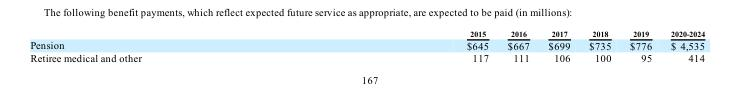table: (29, 29, 704, 63)
table column: (29, 29, 303, 63), (303, 29, 497, 63), (660, 29, 704, 63), (497, 29, 538, 63), (578, 29, 619, 63), (619, 29, 660, 63), (538, 29, 578, 63)
table column header: (29, 29, 704, 38)
table row: (29, 38, 704, 51), (29, 51, 704, 63), (29, 29, 704, 38)
